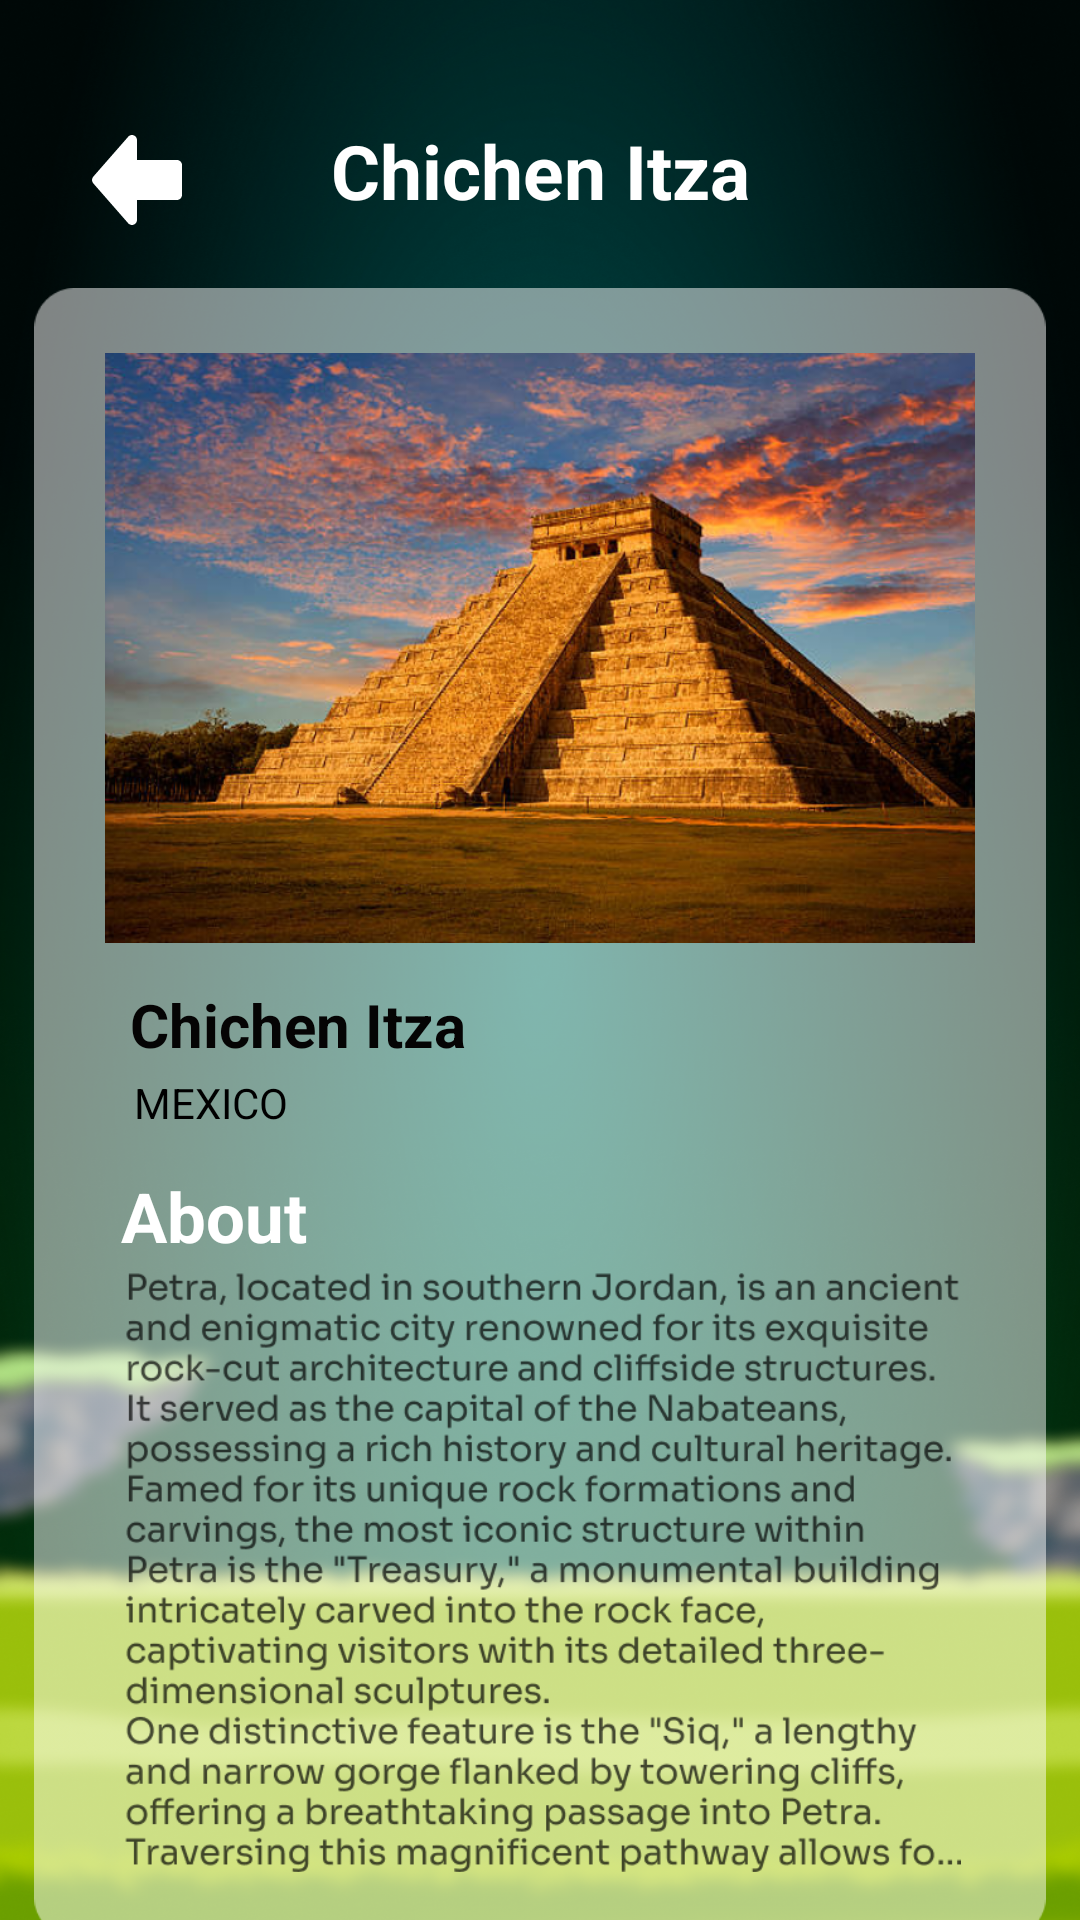

Locate icon controls on the screen. Image size 1080 × 1920, boxes as {"x1": x1, "y1": y1, "x2": x2, "y2": y2}.
back: {"x1": 92, "y1": 135, "x2": 182, "y2": 225}
